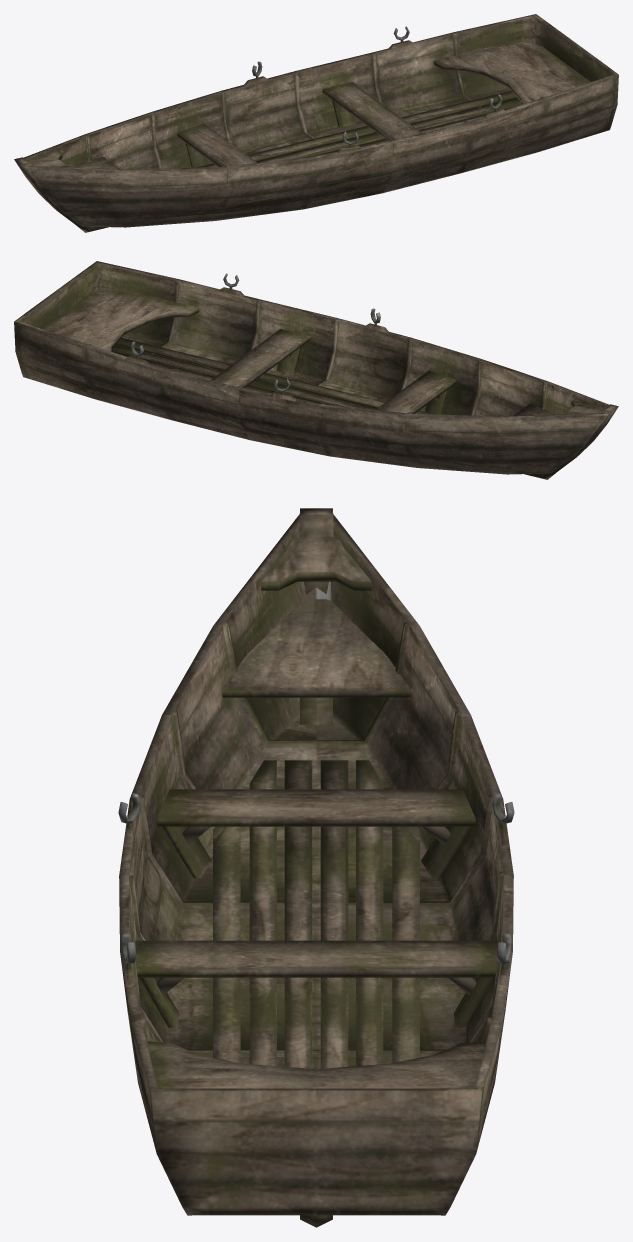
File: wooden_boat.glb
3 renders of one model, top to bottom at view 1: azimuth 30°, elevation 25°; view 2: azimuth 150°, elevation 25°; view 3: azimuth 270°, elevation 25°, orthographic. The views are drawn at different scales.
Visible parts, largest first — view 1: boat_low.000; view 2: boat_low.000; view 3: boat_low.000.
Boxes of the visible parts, x1,y1,x2,y2 form: boat_low.000: [14, 14, 618, 232]; boat_low.000: [14, 261, 618, 479]; boat_low.000: [118, 508, 514, 1227].
Size of the model in its own units: 2 by 0.3021 by 0.613.
1 material, 1 textured.
